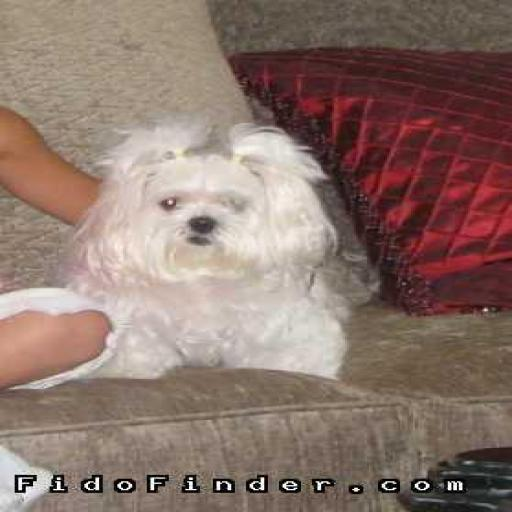dog_face: (102, 128, 304, 266)
